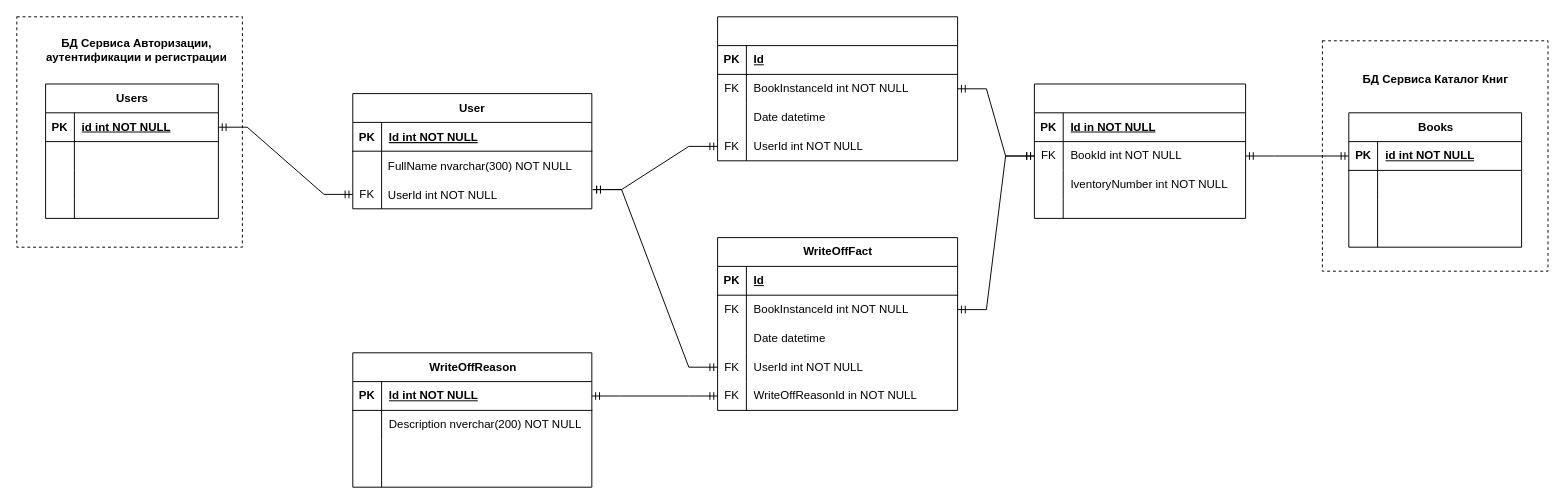
Some shapes in this 1565 by 504 pixel diagram are drawn without their labels. The shapes that lost their labels are listed below. From the top down, each one's box as (x1, y1, x2, y2) in pixels, then its label:
(717, 16, 958, 161): ReceiptFact
(1033, 83, 1246, 218): BookInstance
